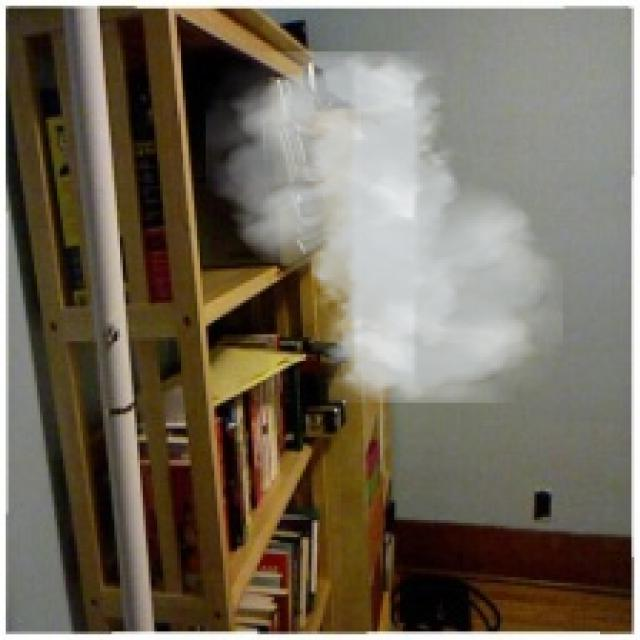smoke: (206, 51, 563, 403)
